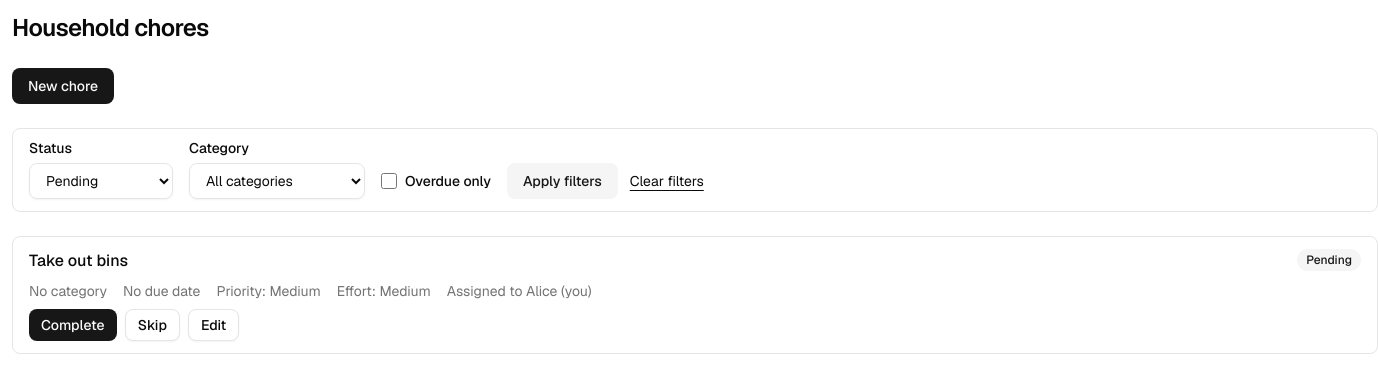
Test: /chores outcome message across server re-renders › keeps the success message when the row leaves, the list empties and the filter form remounts
The width and height of the screenshot is (1378, 371).
Click the button "Complete": (73, 325) 29,309 -> 117,341
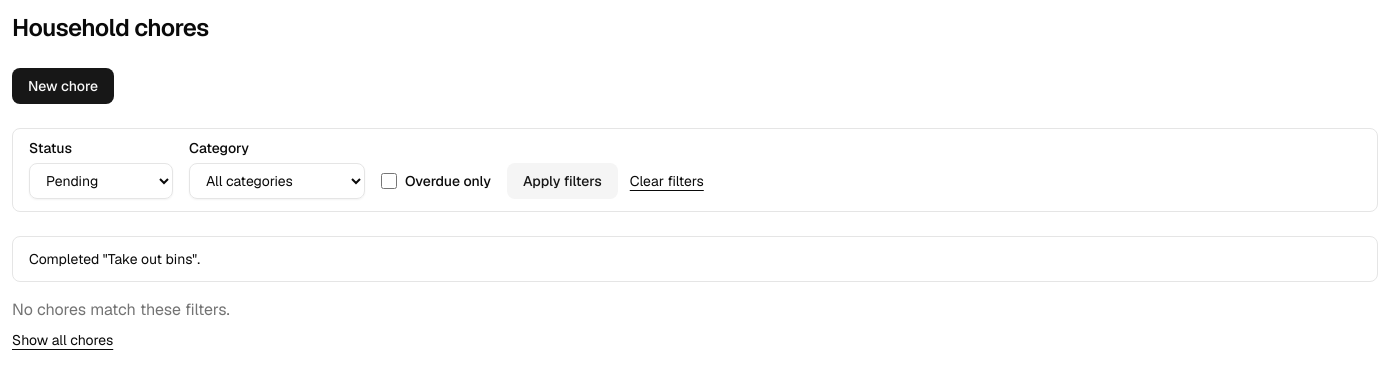
Result: the text "No chores match these filters." is shown at 12,298 -> 230,322
Result: the message "Completed \"Take out bins\"." reads "Completed \"Take out bins\"." at 29,250 -> 200,268
